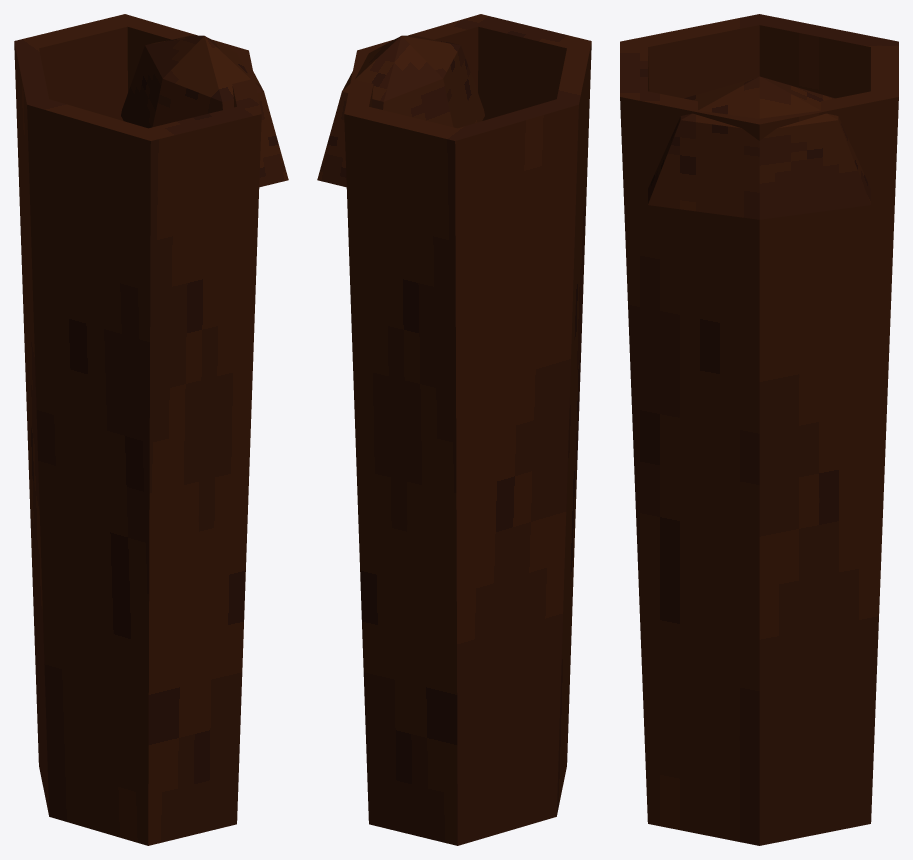
The model's file is laminar_cuero.glb.
3 views of the same model, side by side, from view 1: azimuth 30°, elevation 25°; view 2: azimuth 150°, elevation 25°; view 3: azimuth 270°, elevation 25° (orthographic). The views are drawn at different scales.
Parts seen in each view (by area): view 1: greba, rodillera; view 2: greba, rodillera; view 3: greba, rodillera.
Part boxes in pixels (box(x1,y1,x2,y2)): greba: box(14, 14, 261, 845); rodillera: box(121, 35, 288, 187); greba: box(344, 14, 591, 845); rodillera: box(317, 35, 484, 187); greba: box(620, 14, 898, 845); rodillera: box(648, 76, 870, 219).
Bounding box in the file's own units: 0.15 × 0.45 × 0.15.
Materials: 1 (1 with a texture image).
